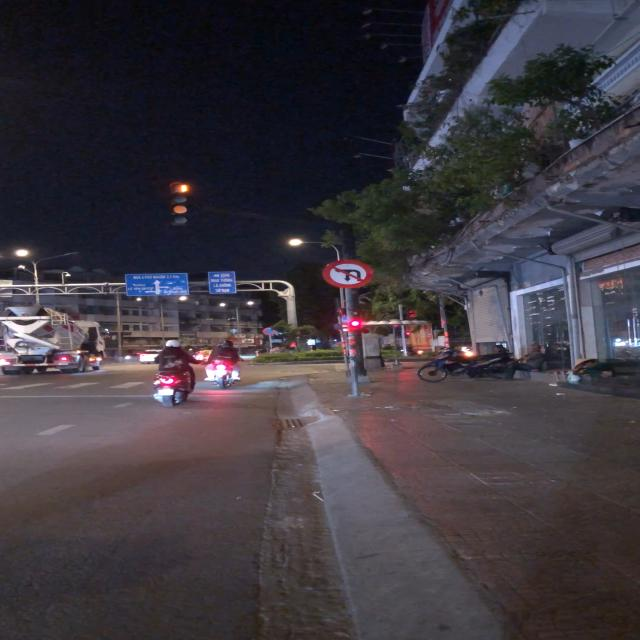Bien bao cam re trai va quay dau: (320, 259, 375, 289)
